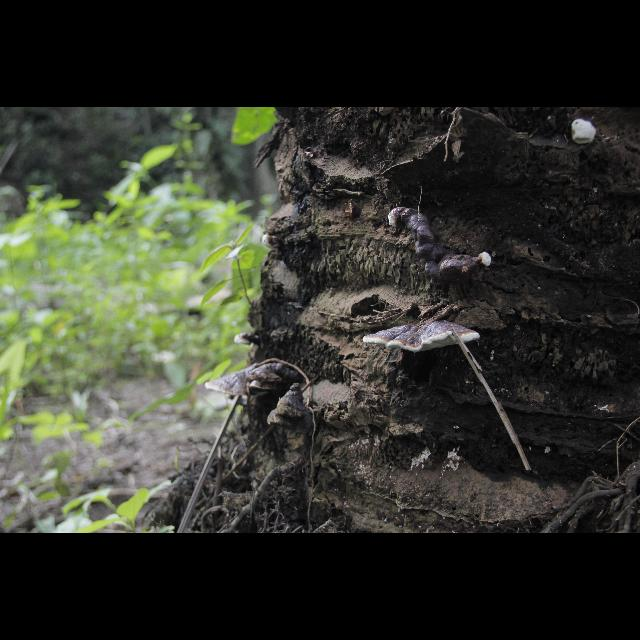ganoderma: (403, 208, 479, 285), (364, 319, 483, 355), (205, 364, 270, 399), (247, 364, 291, 394), (235, 334, 263, 346)
primordium: (572, 119, 598, 145), (262, 234, 283, 251), (389, 208, 404, 230), (479, 253, 494, 270)
